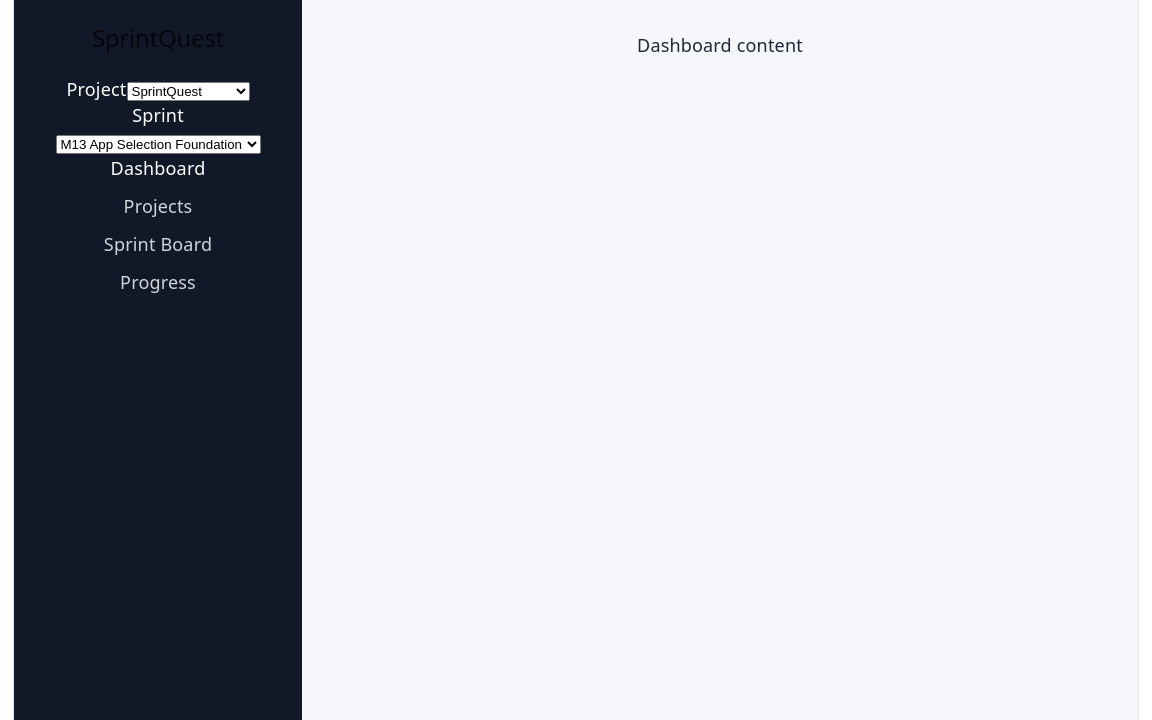
AppLayout application context › changes the selected project and loads its sprints
Select "Portfolio Website" in the dropdown labelled "Project" at point(188, 92), box [126,82,250,101]
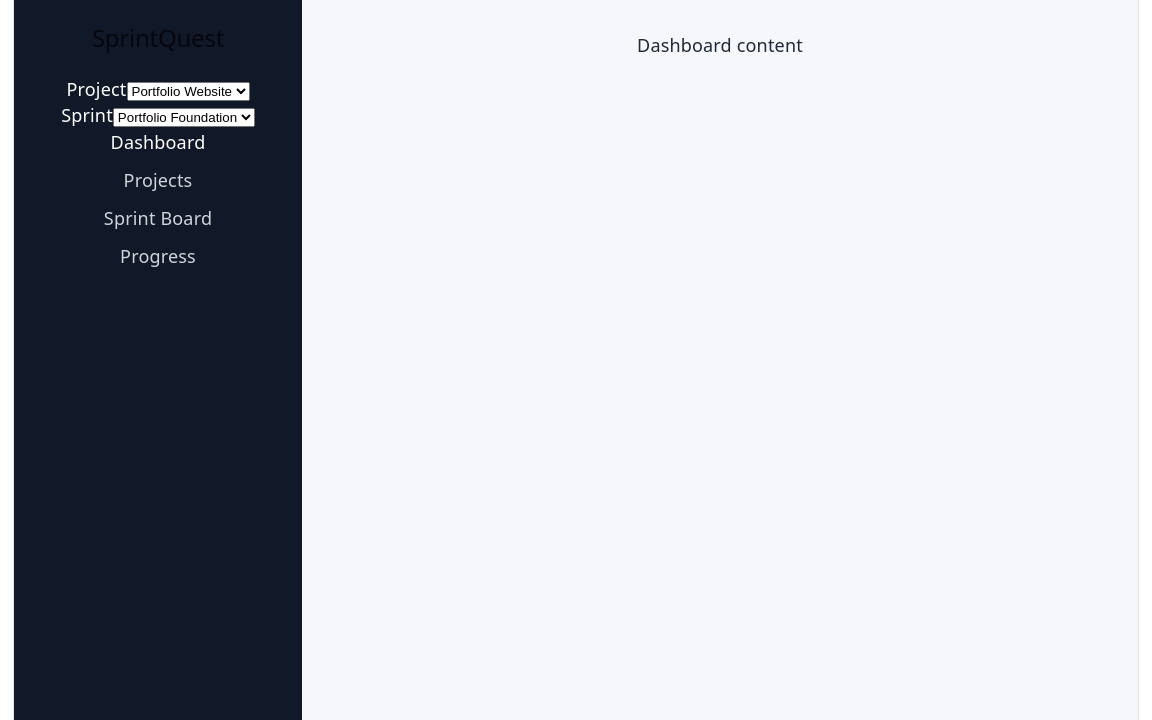
Now the dropdown labelled "Sprint" shows "Portfolio Foundation", box [113,108,255,127]
